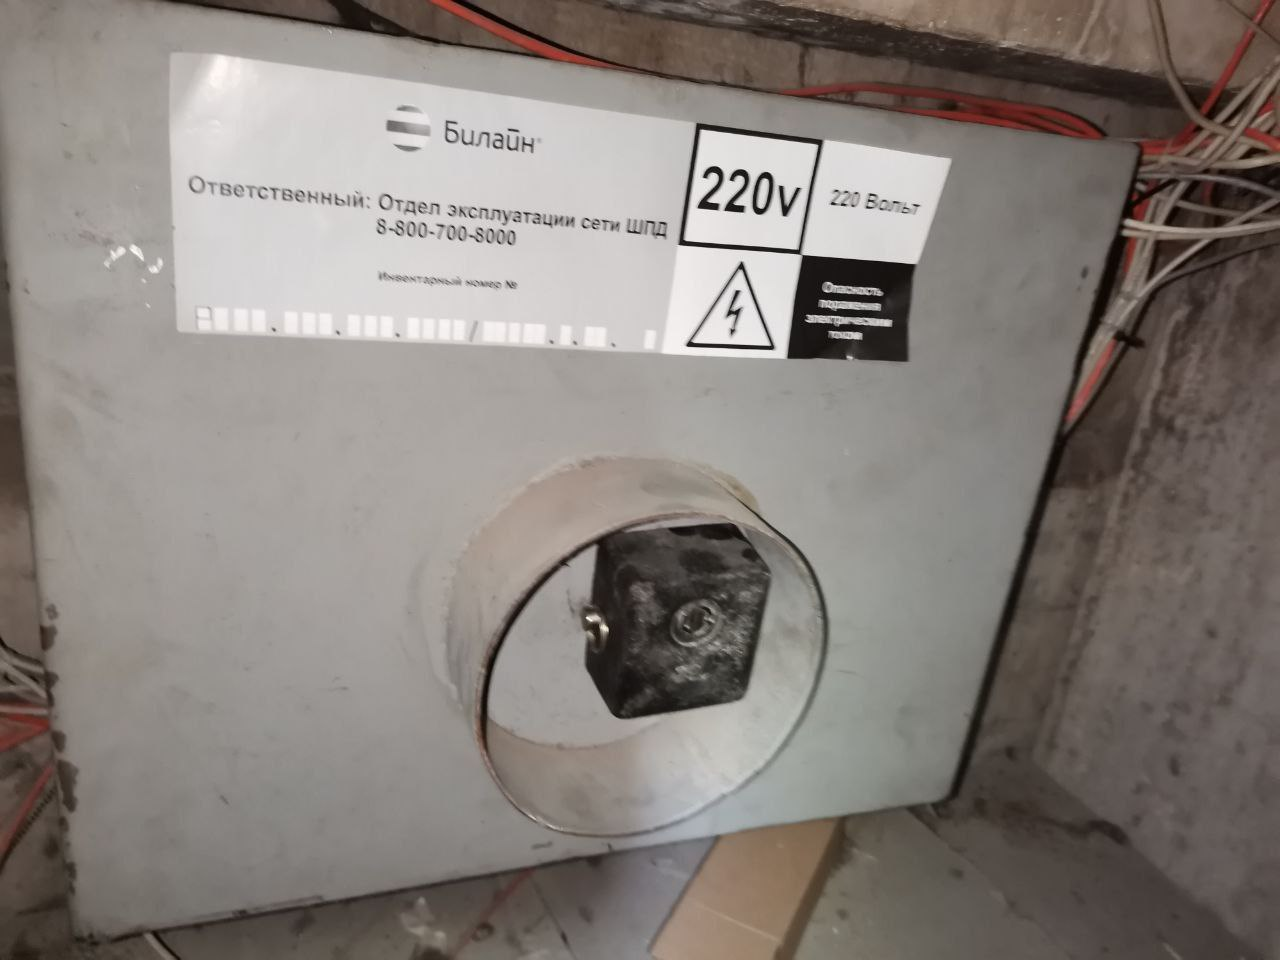shta-3: (2, 5, 1144, 945)
